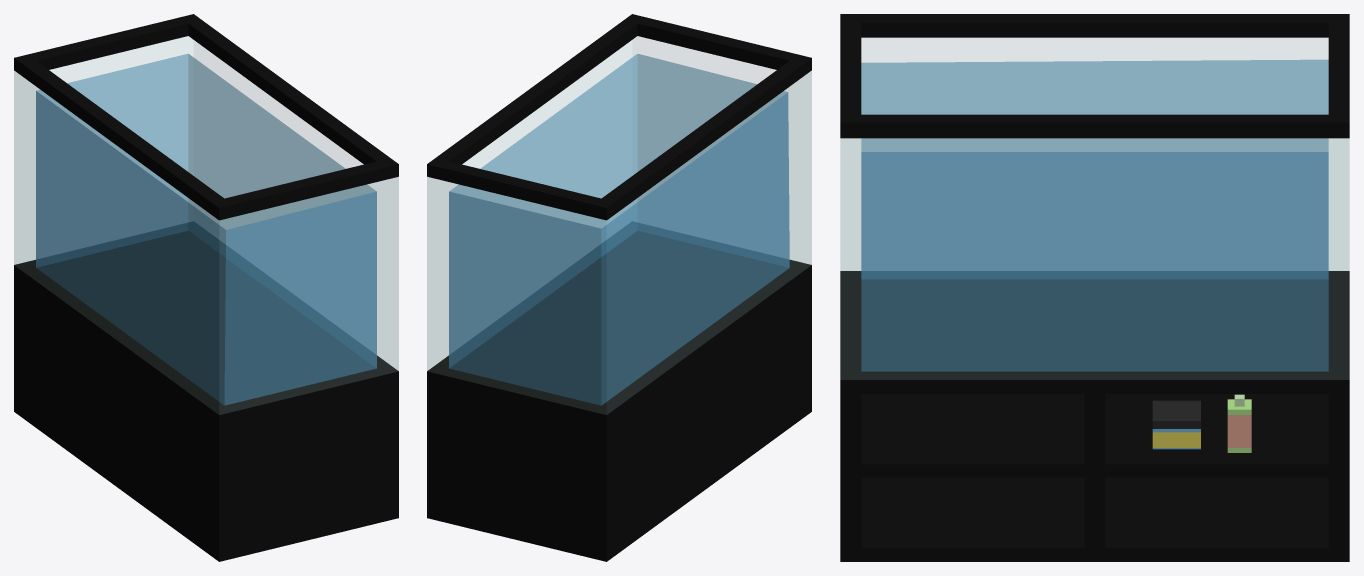
Rendered from Fish Tank.gltf.
3 views of the same model, side by side, from view 1: azimuth 30°, elevation 25°; view 2: azimuth 150°, elevation 25°; view 3: azimuth 270°, elevation 25° (orthographic). The views are drawn at different scales.
Visible parts, largest first — view 1: Fish Tank; view 2: Fish Tank; view 3: Fish Tank, Product 1, Product 2.
Part boxes in pixels (left/top/right/bottom): Fish Tank: left=14, top=14, right=398, bottom=561; Fish Tank: left=427, top=14, right=811, bottom=561; Fish Tank: left=840, top=14, right=1349, bottom=561; Product 1: left=1152, top=400, right=1200, bottom=449; Product 2: left=1227, top=394, right=1251, bottom=452.
Bounding box in the file's own units: 1.88 × 3.53 × 3.71.
